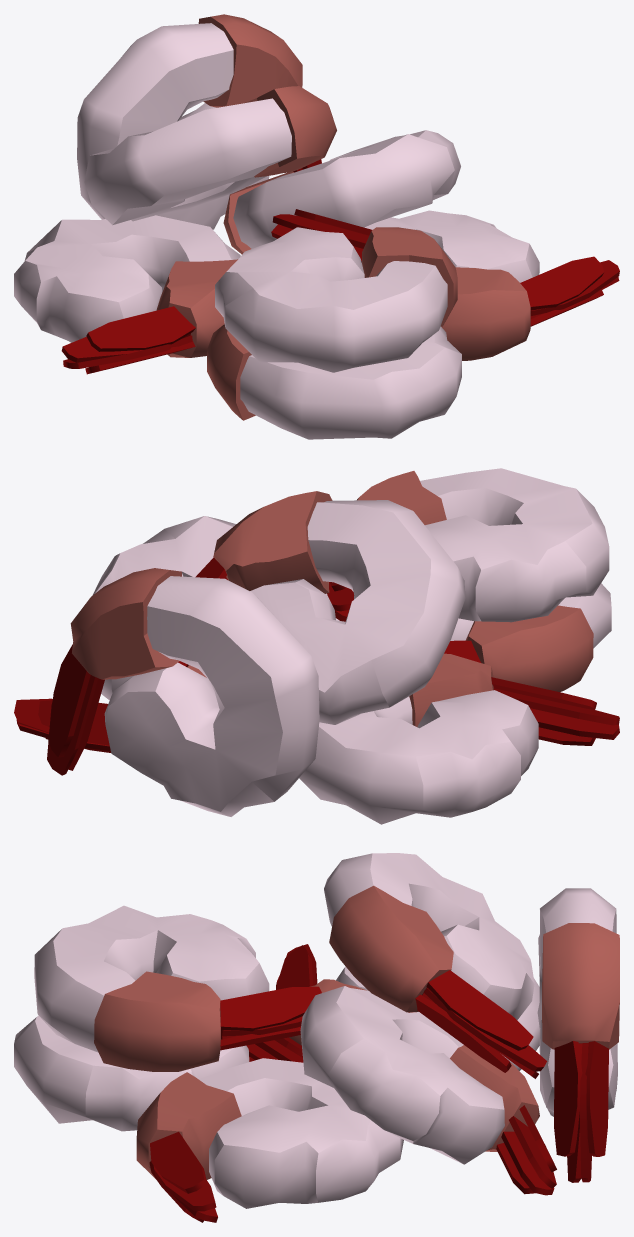
File: prawns_model.fbx
3 renders of one model, top to bottom at view 1: azimuth 30°, elevation 25°; view 2: azimuth 150°, elevation 25°; view 3: azimuth 270°, elevation 25°, orthographic. The views are drawn at different scales.
Visible parts, largest first — view 1: prawn5, prawn3, prawn2, prawn7, prawn4, prawn6, prawn8; view 2: prawn7, prawn2, prawn3, prawn5, prawn4, prawn8; view 3: prawn5, prawn6, prawn2, prawn8, prawn7, prawn4, prawn3.
Boxes of the visible parts, x1,y1,x2,y2 form: prawn5: [215, 209, 457, 372]; prawn3: [14, 215, 240, 374]; prawn2: [84, 86, 336, 225]; prawn7: [77, 14, 321, 229]; prawn4: [207, 324, 461, 439]; prawn6: [364, 210, 619, 360]; prawn8: [223, 130, 460, 254]; prawn7: [47, 568, 319, 816]; prawn2: [178, 491, 465, 724]; prawn3: [299, 653, 619, 824]; prawn5: [327, 468, 609, 622]; prawn4: [444, 583, 611, 691]; prawn8: [14, 516, 236, 752]; prawn5: [34, 905, 321, 1071]; prawn6: [136, 1058, 403, 1222]; prawn2: [324, 853, 546, 1078]; prawn8: [300, 986, 556, 1195]; prawn7: [537, 888, 619, 1182]; prawn4: [14, 1015, 303, 1131]; prawn3: [276, 944, 539, 1070].
Bounding box in the file's own units: 47.49 × 19.8 × 47.45.
